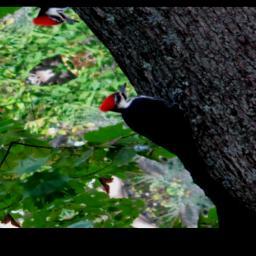Woodpecker: (87, 66, 239, 195)
